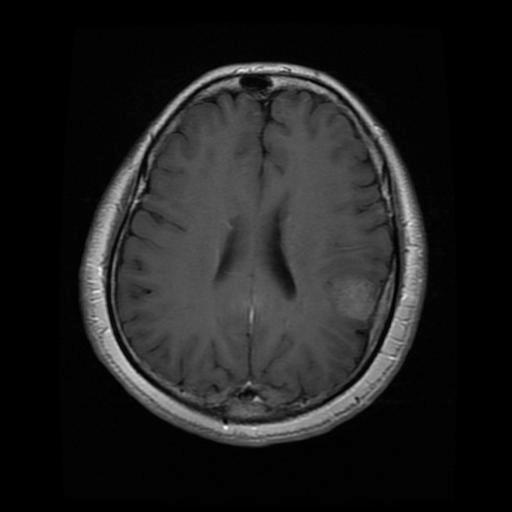Tumour-Pituitary: (322, 252, 393, 349)
